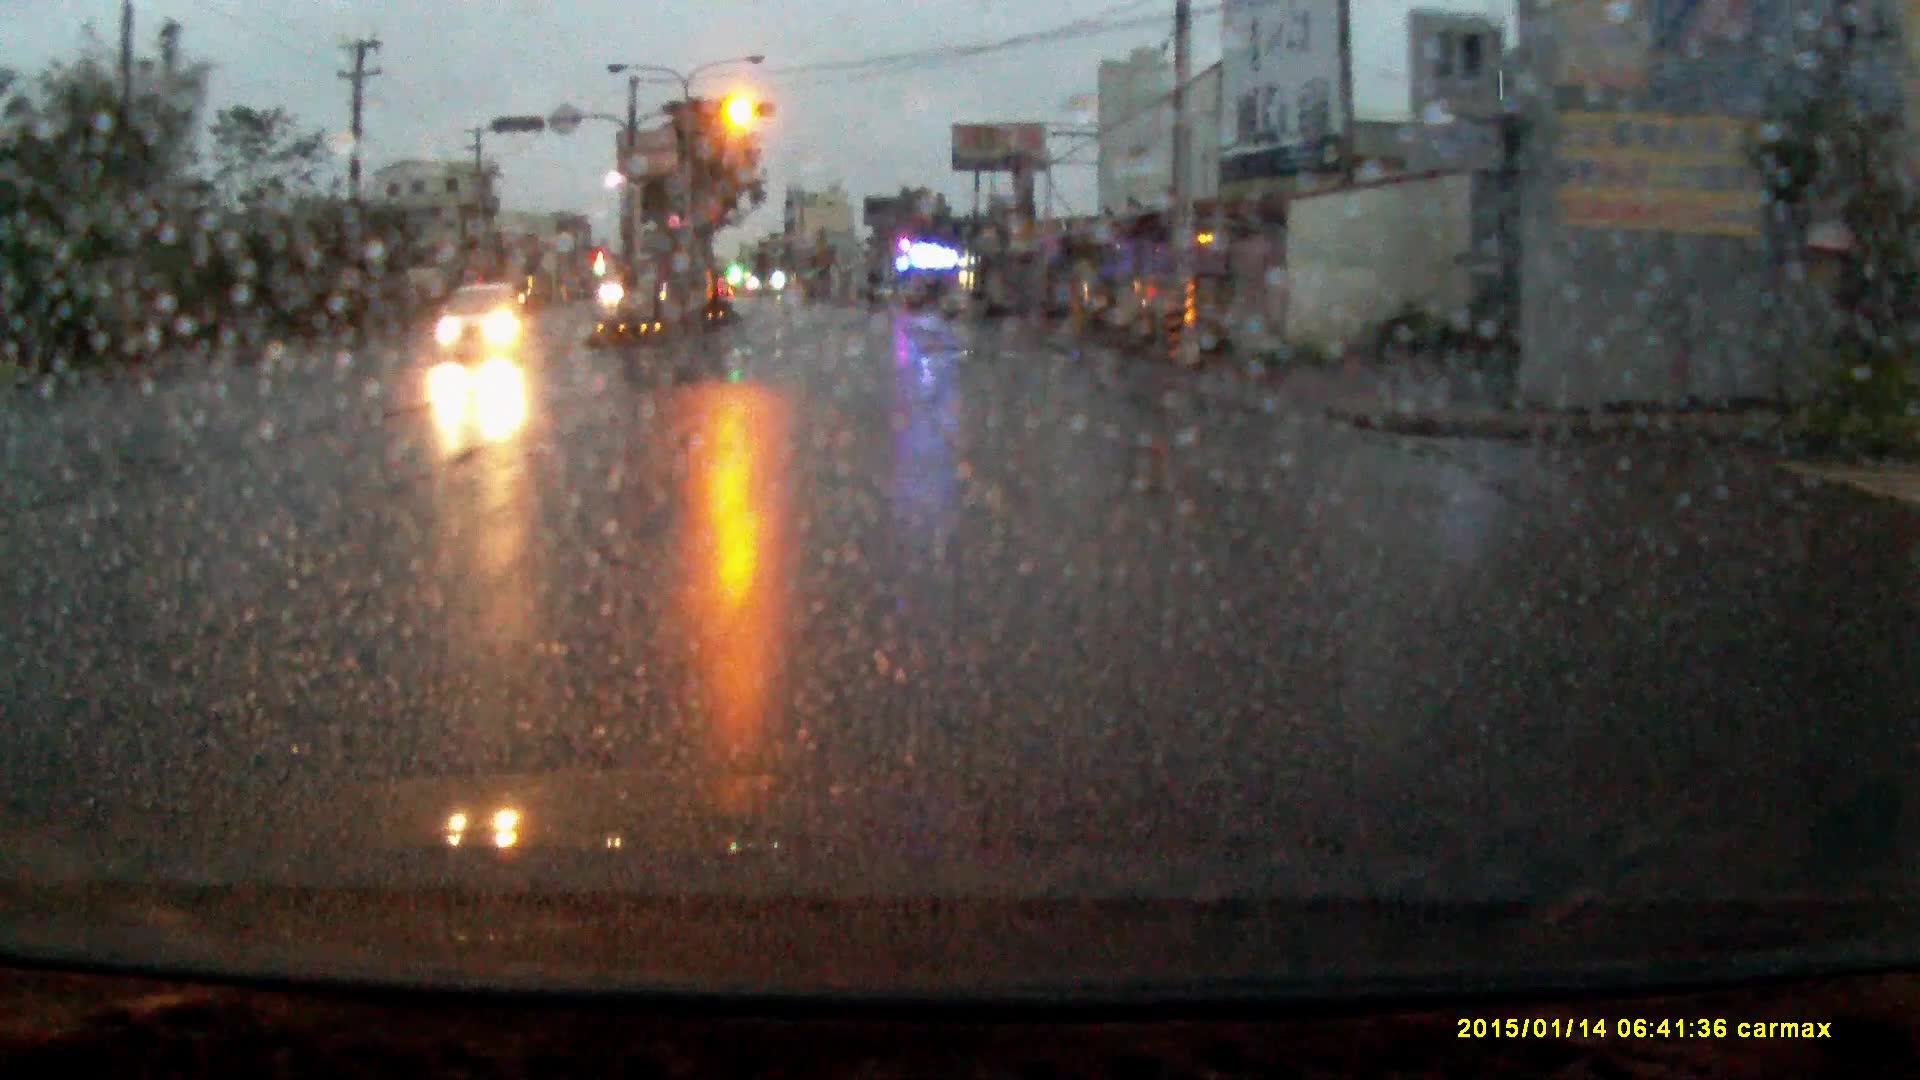vehicle: (436, 287, 531, 367)
